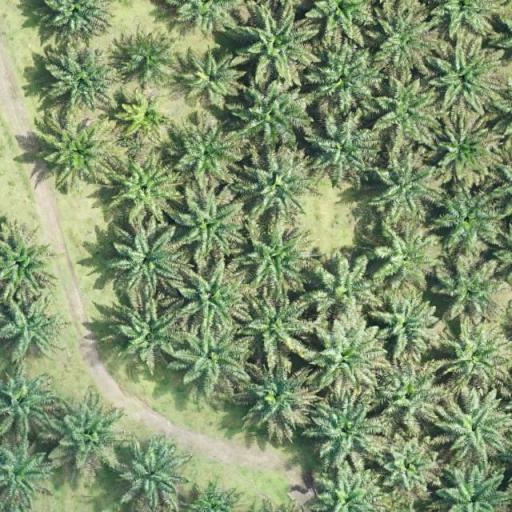Ganoderma: (123, 98, 165, 136)
